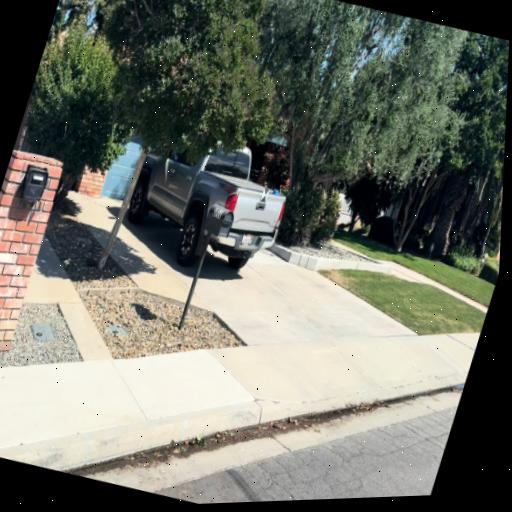target1: (259, 187, 270, 204)
